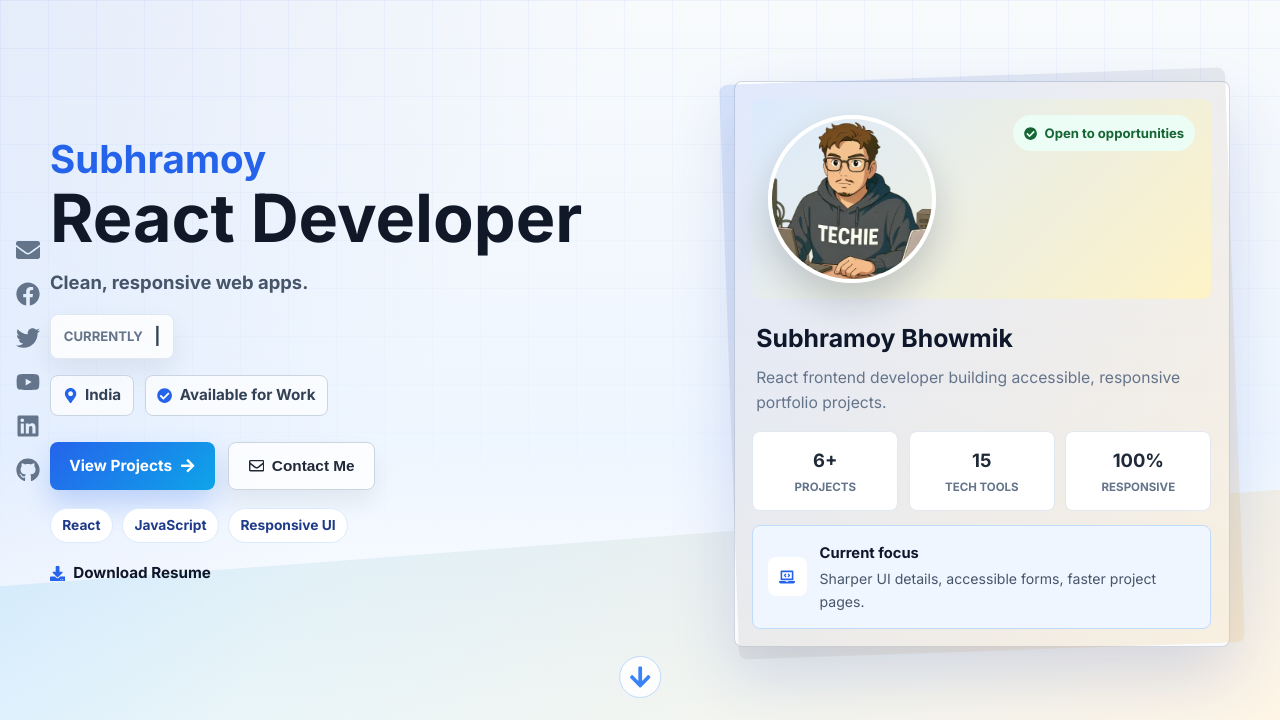
submits contact form in app and clears fields after success
The image size is (1280, 720).
Click the button "Contact Me" at (302, 466), box [228,442,375,490]
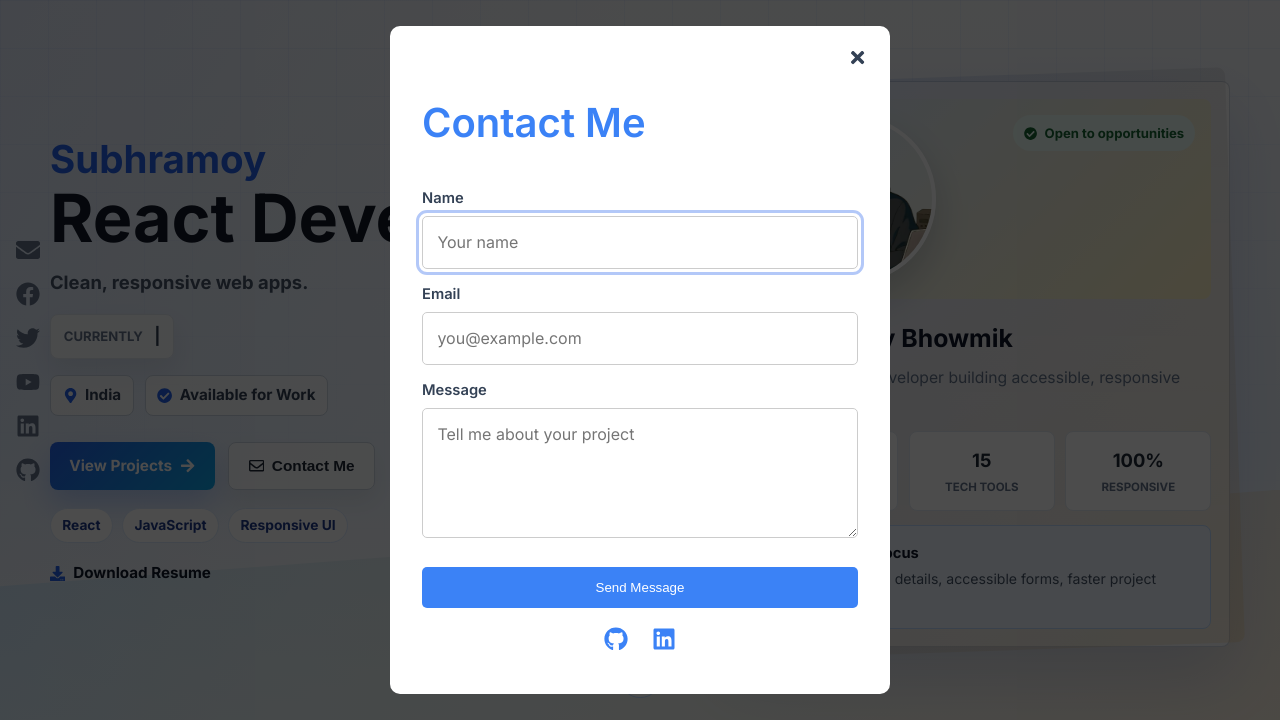
Type "Test User" into the field labelled "Name" at (640, 243), box [422,216,858,269]
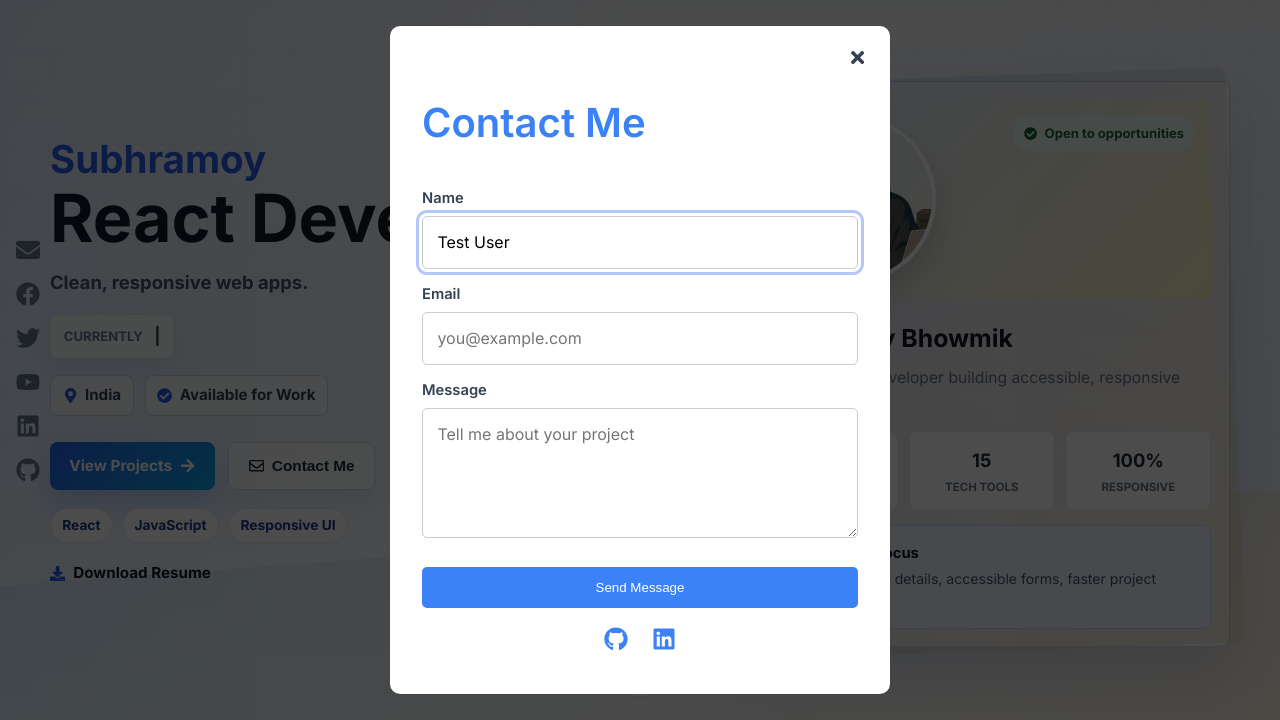
Type "test@example.com" into the field labelled "Email" at (640, 338), box [422,312,858,365]
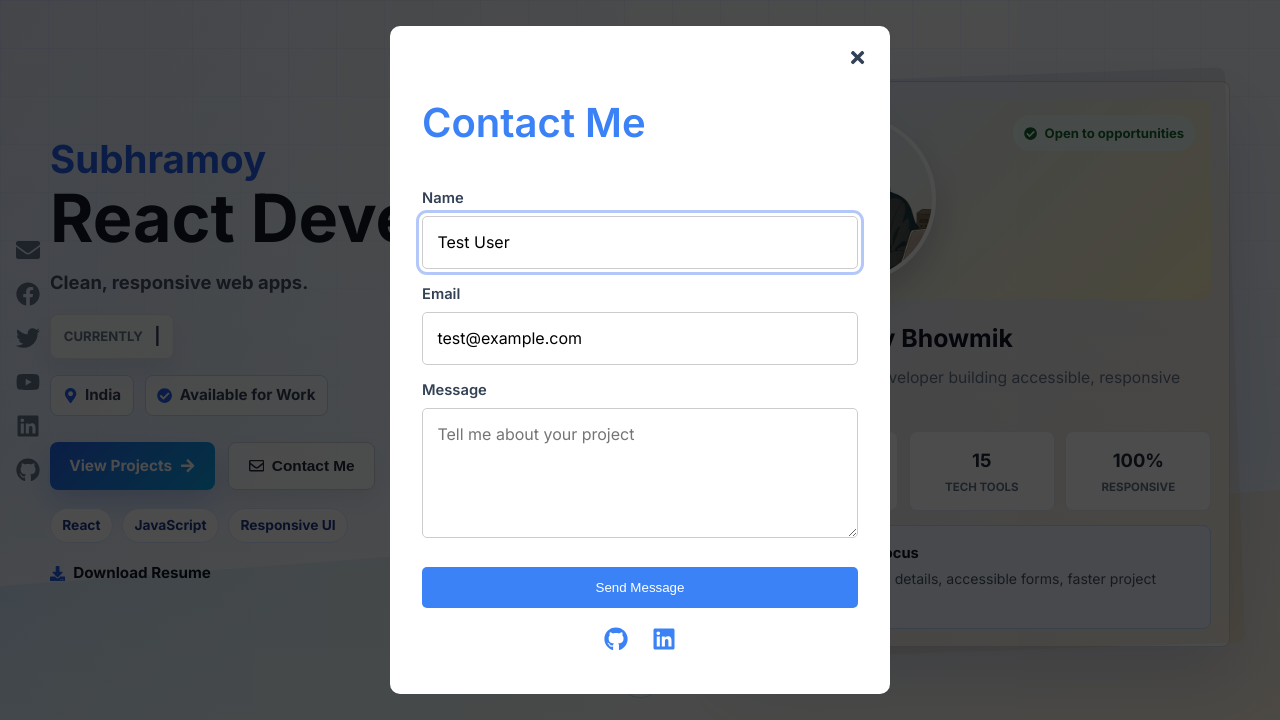
Type "Hello from a test." into the text box labelled "Message" at (640, 473), box [422,408,858,538]
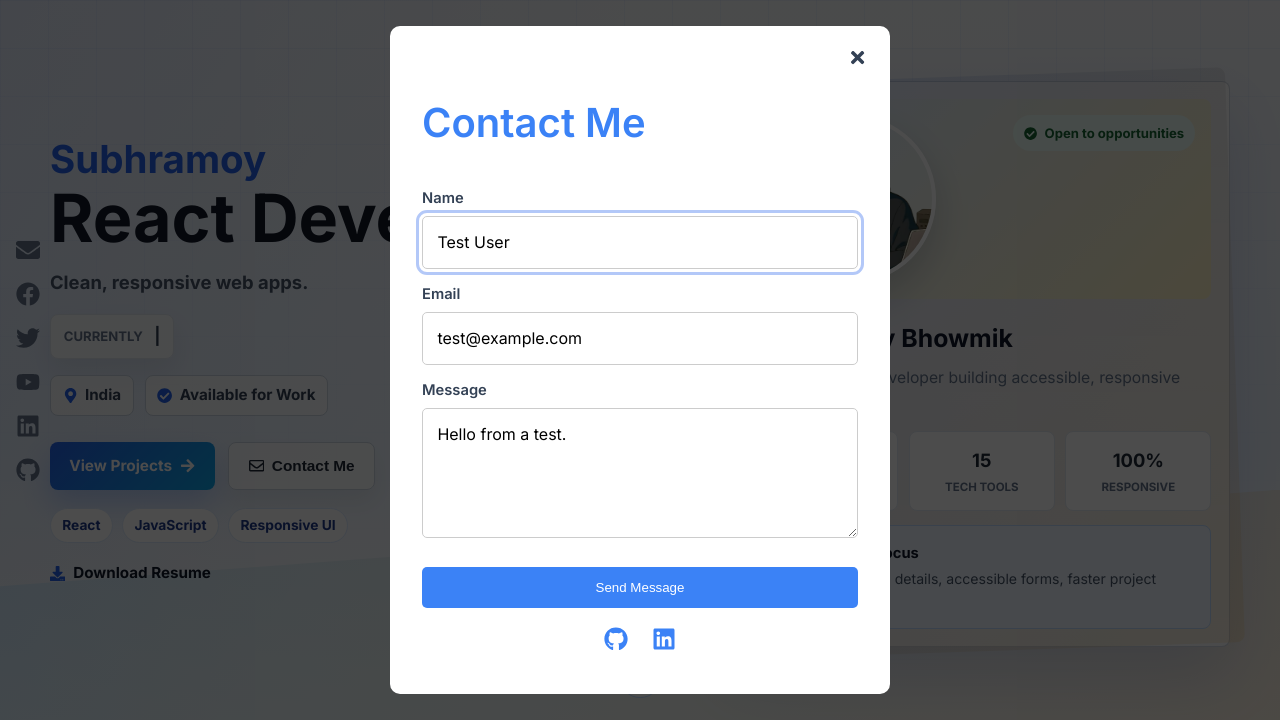
Click the button "Send Message" at (640, 588), box [422,567,858,608]
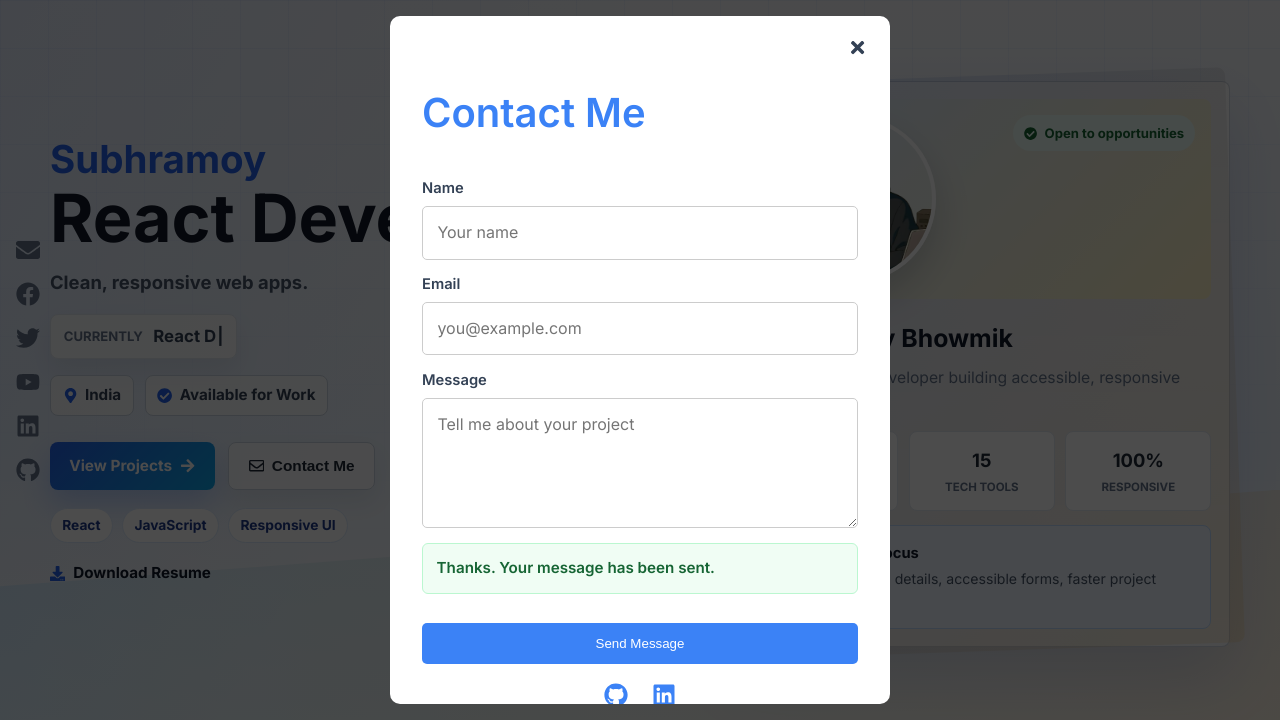
Check: the text "Thanks. Your message has been sent." is shown, box [422,543,858,594]
Check: the field labelled "Name" is empty, box [422,206,858,260]
Check: the field labelled "Email" is empty, box [422,302,858,356]
